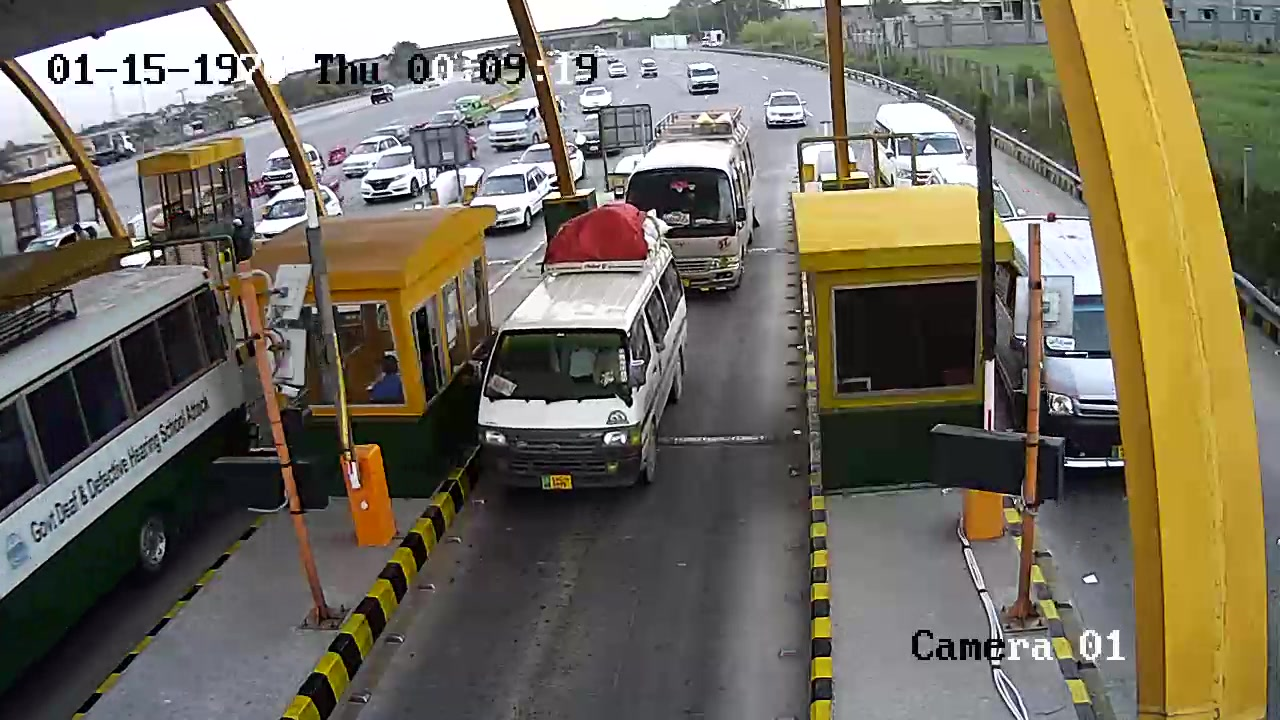F3: (470, 207, 689, 518)
